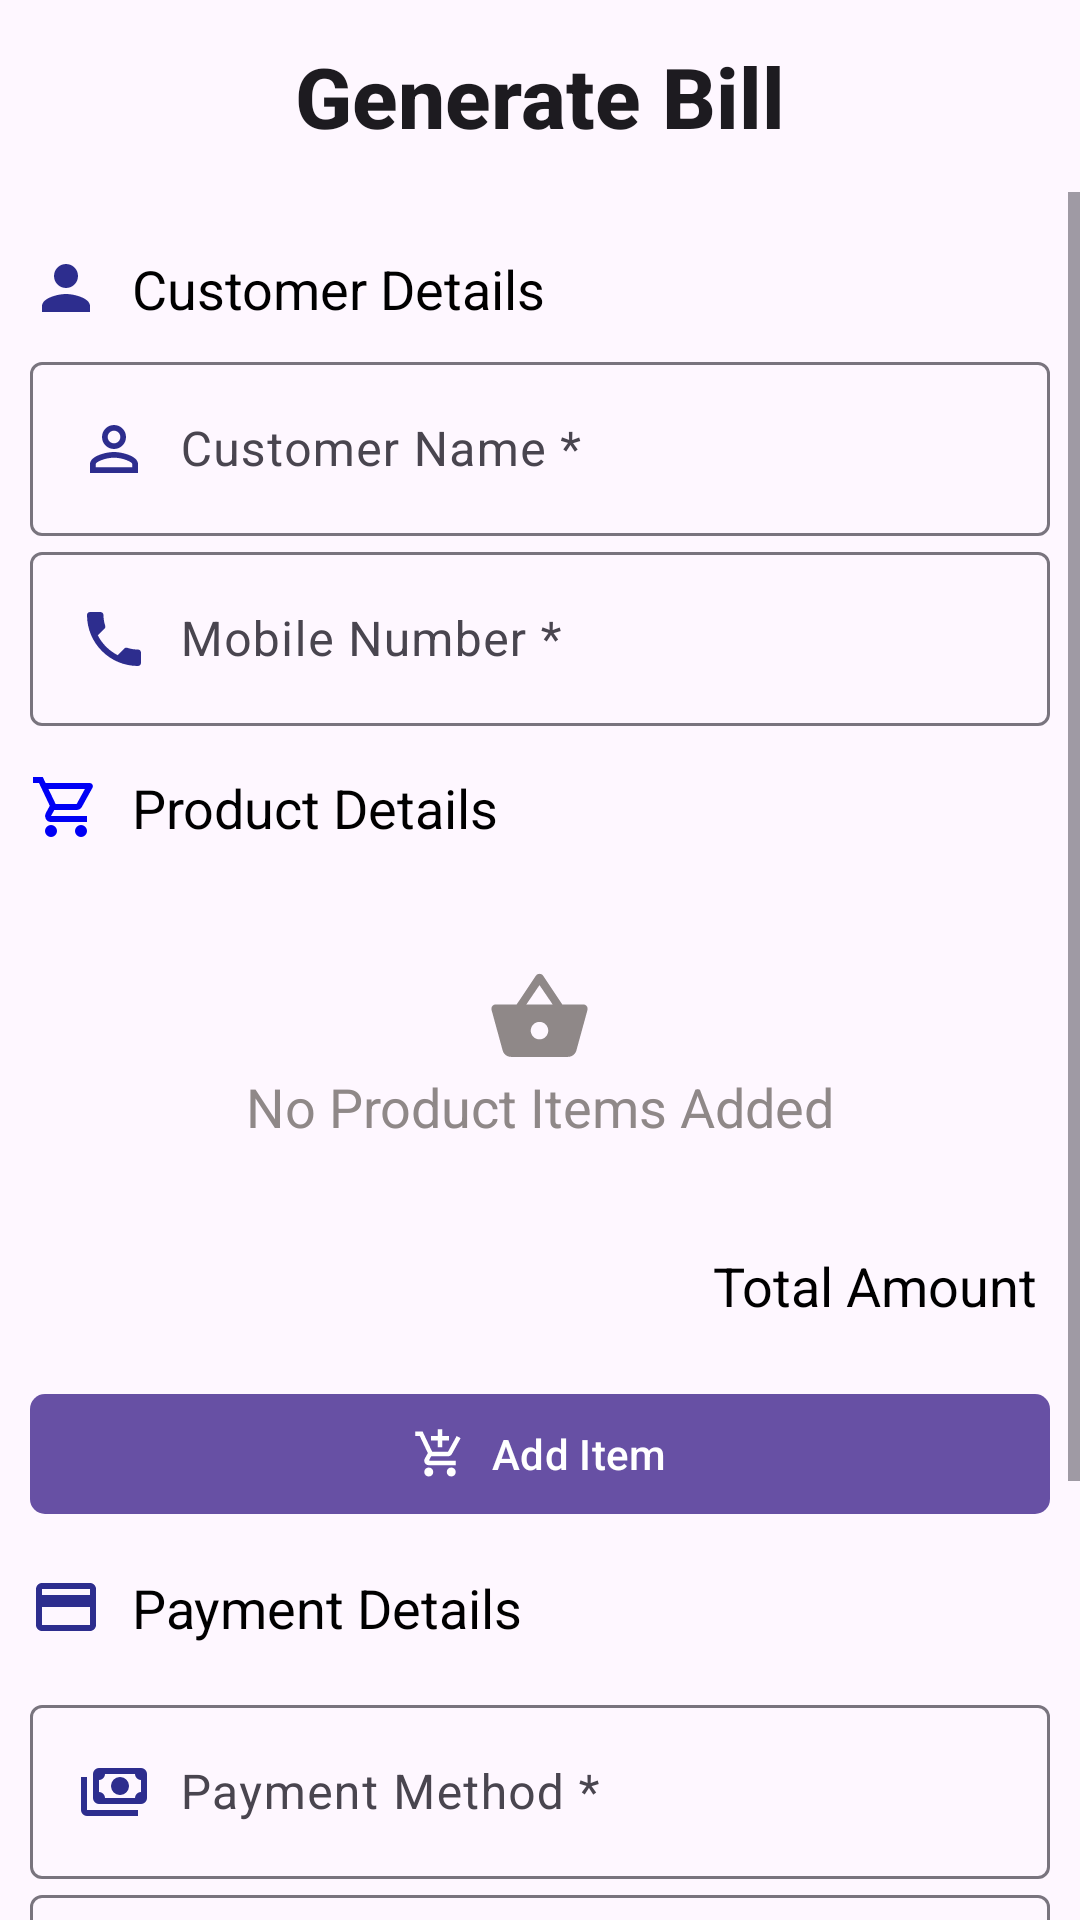

Icon click points for this 1080 x 1920 phone screenshot, format (x=x, y=y):
shopping basket: (x=539, y=1015)
